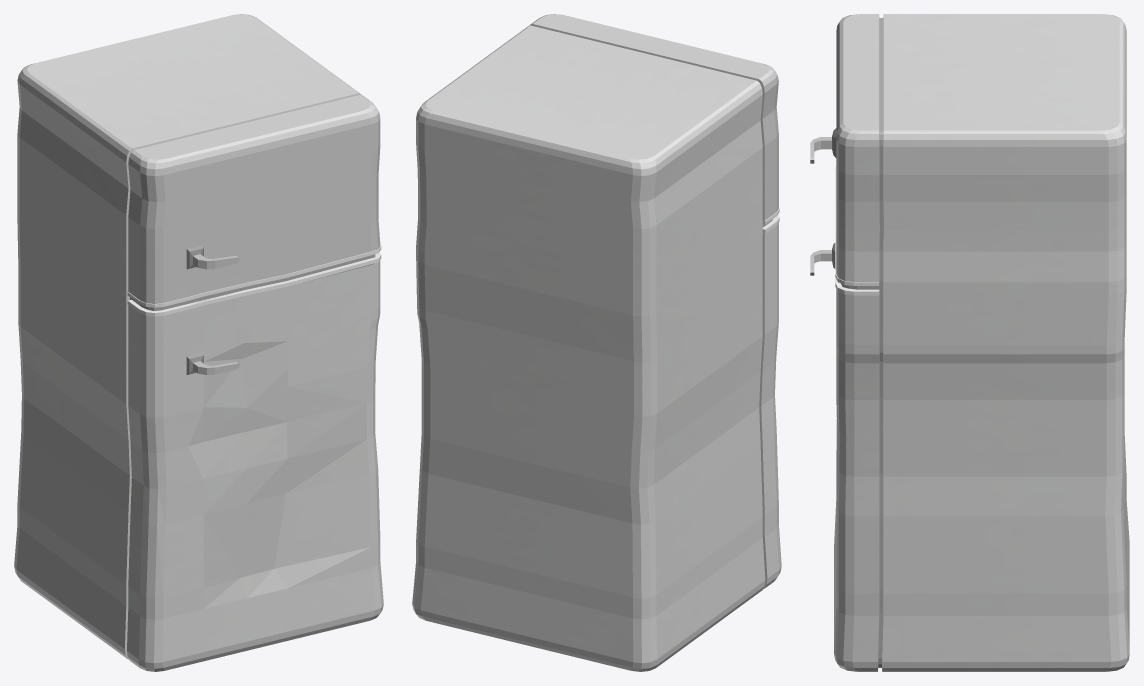
File: fridge_1.dae
The picture shows the model from 3 angles, left to right: view 1: azimuth 30°, elevation 25°; view 2: azimuth 150°, elevation 25°; view 3: azimuth 270°, elevation 25°; orthographic projection. The views are drawn at different scales.
Visible parts, largest first — view 1: fridge; view 2: fridge; view 3: fridge.
Boxes of the visible parts, x1,y1,x2,y2 form: fridge: (14,14,383,671); fridge: (412,14,781,671); fridge: (810,14,1129,671).
Size of the model in its own units: 0.7197 by 0.7768 by 1.45.
